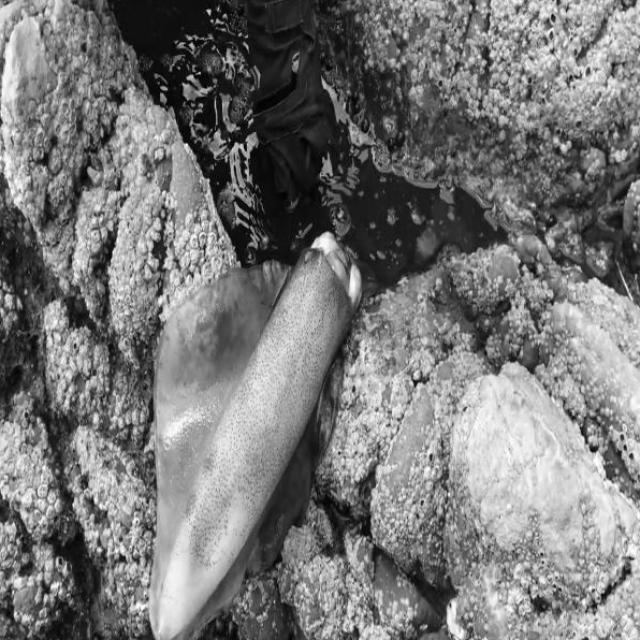SQUID: (121, 212, 398, 640)
